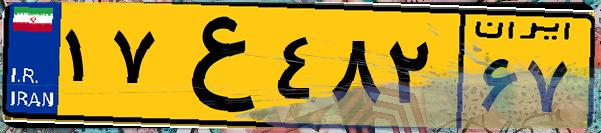1: (57, 26, 110, 100)
2: (385, 28, 445, 110)
4: (270, 28, 330, 110)
6: (475, 38, 525, 113)
7: (525, 38, 570, 115), (110, 28, 158, 98)
8: (330, 28, 385, 110)
ع: (158, 12, 270, 120)
